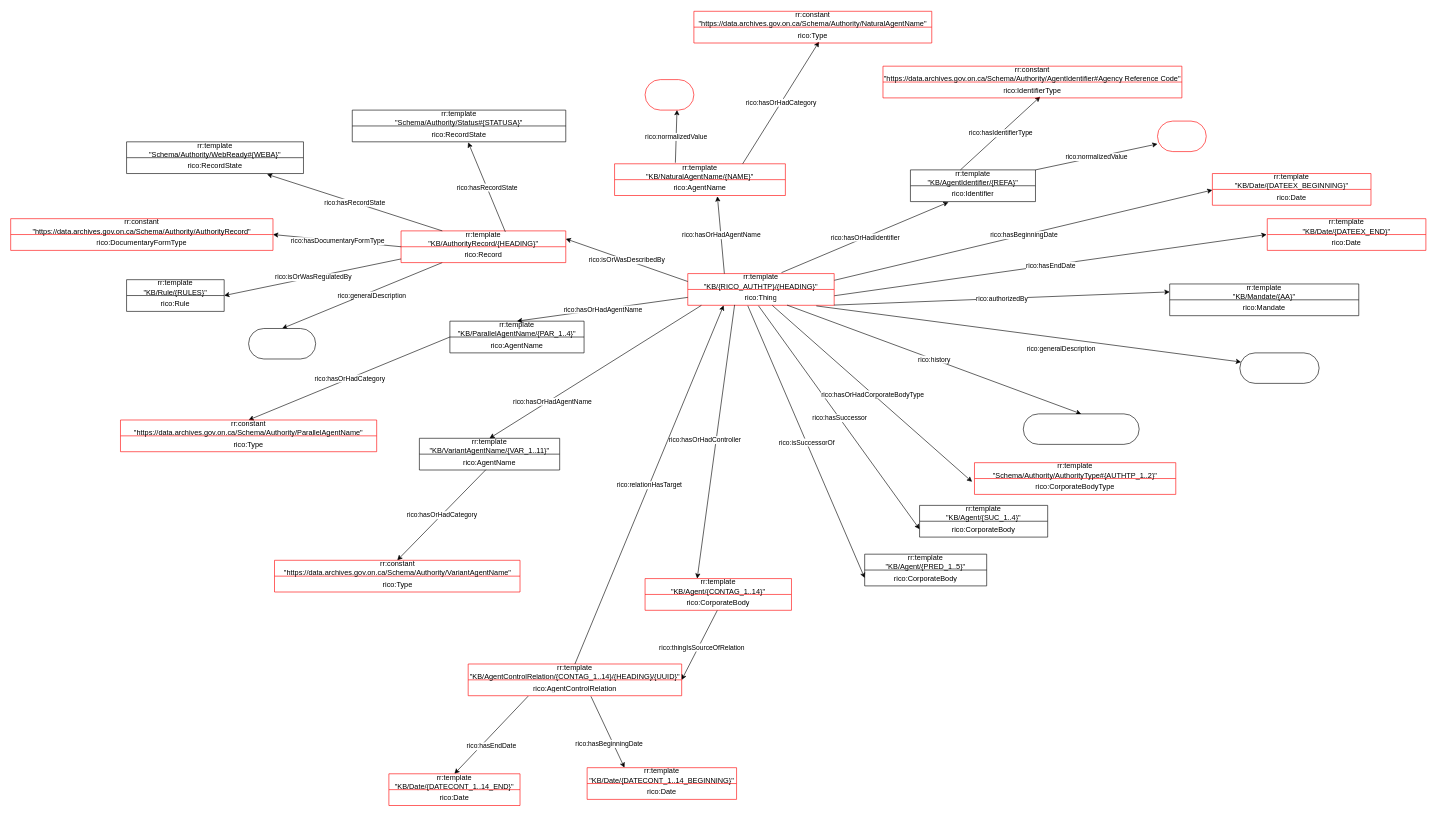
This 1437x818 diagram has some shape labels left out. Here are the shapes that lost their labels. From the top down, the centre of each, then its label:
pixel 669 94: rml:reference "NAME"
pixel 1181 136: rml:reference "REFA"
pixel 282 343: rml:reference " SOURCE "
pixel 1279 367: rml:reference " FUN "
pixel 1081 428: rml:reference " ADM "
